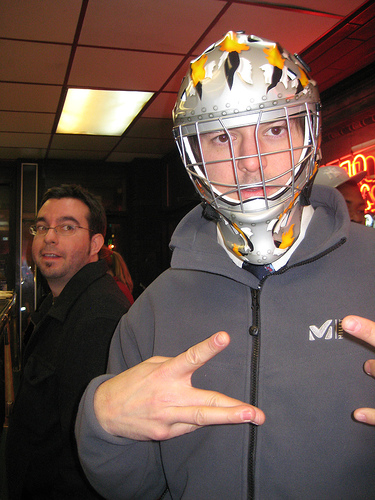helmet: (167, 52, 333, 133)
